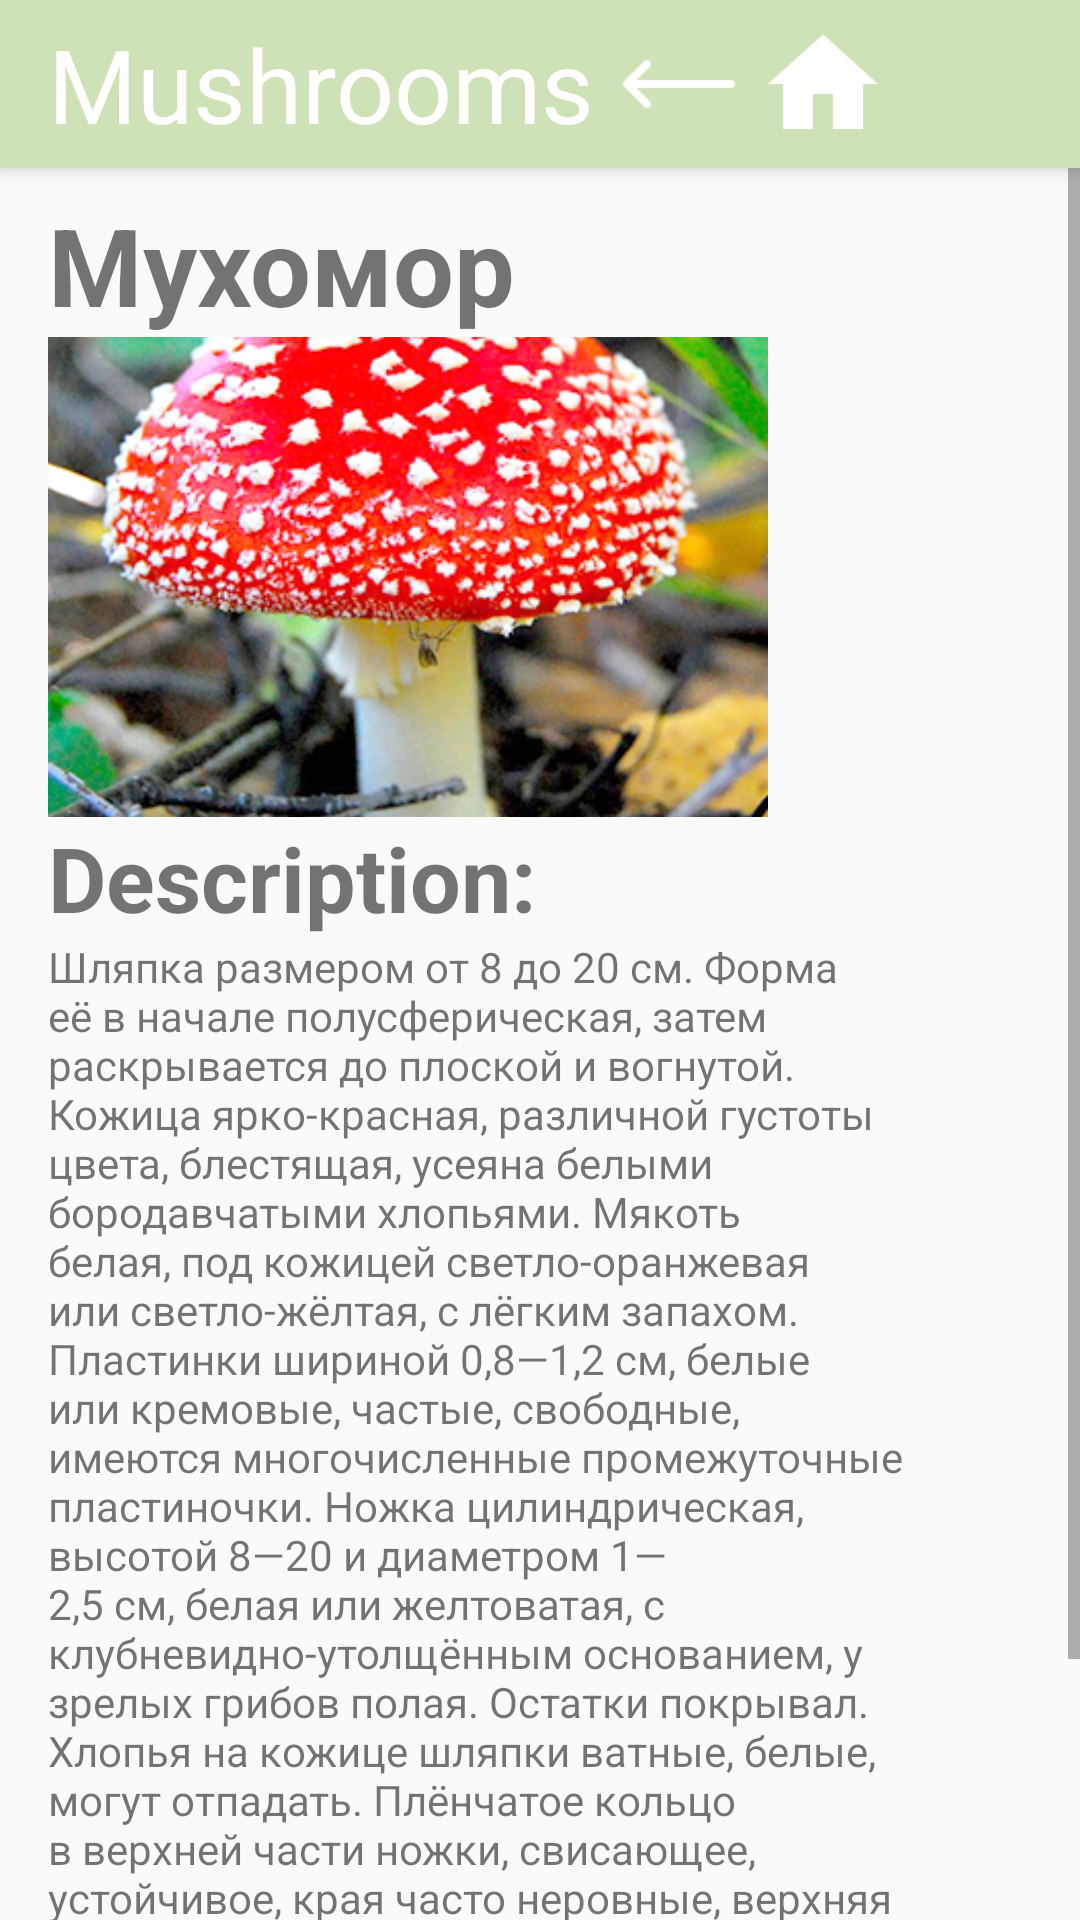

Screen size 1080px x 1920px. Icon name, then its box in pixels as (x1, y1, x2, y2):
home: (768, 35, 878, 129)
long arrow left: (623, 60, 735, 108)
